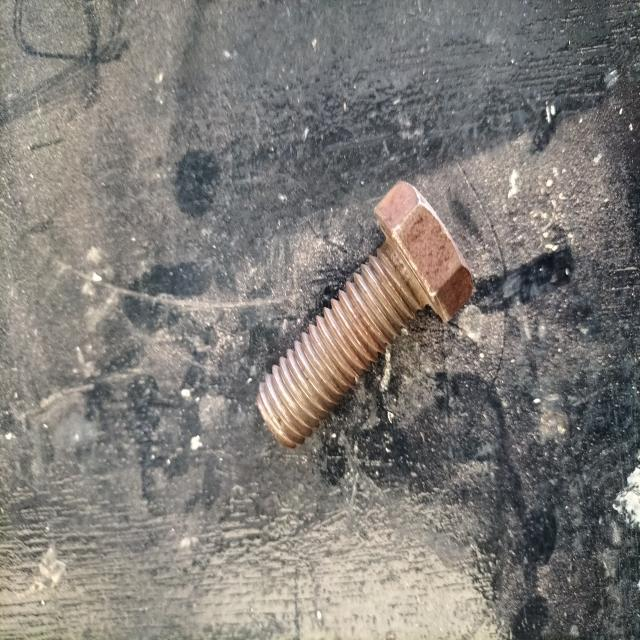bolt: (256, 180, 469, 448)
